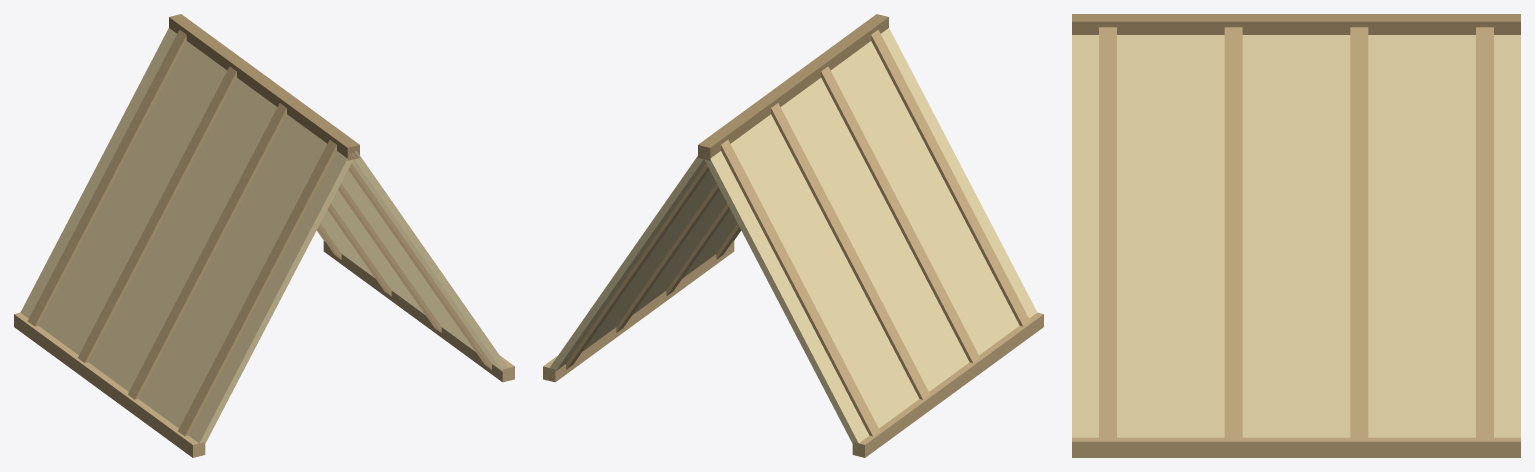
The model's file is 18-Casas_techo_paja.glb.
3 renders of one model, left to right at view 1: azimuth 30°, elevation 25°; view 2: azimuth 150°, elevation 25°; view 3: azimuth 270°, elevation 25°, orthographic. The views are drawn at different scales.
Visible parts, largest first — view 1: SM_TechoP_M_TechoPaja_Tablero, SM_TechoP_M_TechoPaja_Madera_Med, SM_TechoP_M_TechoPaja_Madera_Osc; view 2: SM_TechoP_M_TechoPaja_Tablero, SM_TechoP_M_TechoPaja_Madera_Med, SM_TechoP_M_TechoPaja_Madera_Osc; view 3: SM_TechoP_M_TechoPaja_Tablero, SM_TechoP_M_TechoPaja_Madera_Med, SM_TechoP_M_TechoPaja_Madera_Osc.
Part boxes in pixels (x1,y1,x2,y2): SM_TechoP_M_TechoPaja_Tablero: (20, 28, 508, 446); SM_TechoP_M_TechoPaja_Madera_Med: (14, 29, 514, 457); SM_TechoP_M_TechoPaja_Madera_Osc: (169, 14, 359, 160); SM_TechoP_M_TechoPaja_Tablero: (549, 28, 1037, 449); SM_TechoP_M_TechoPaja_Madera_Med: (543, 29, 1043, 457); SM_TechoP_M_TechoPaja_Madera_Osc: (698, 14, 888, 160); SM_TechoP_M_TechoPaja_Tablero: (1072, 35, 1520, 437); SM_TechoP_M_TechoPaja_Madera_Med: (1072, 27, 1520, 457); SM_TechoP_M_TechoPaja_Madera_Osc: (1072, 14, 1520, 34).
Size of the model in its own units: 1.04 by 0.84 by 1.
